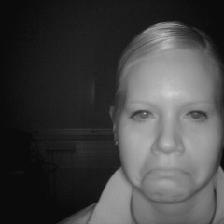sad: (103, 20, 224, 211)
